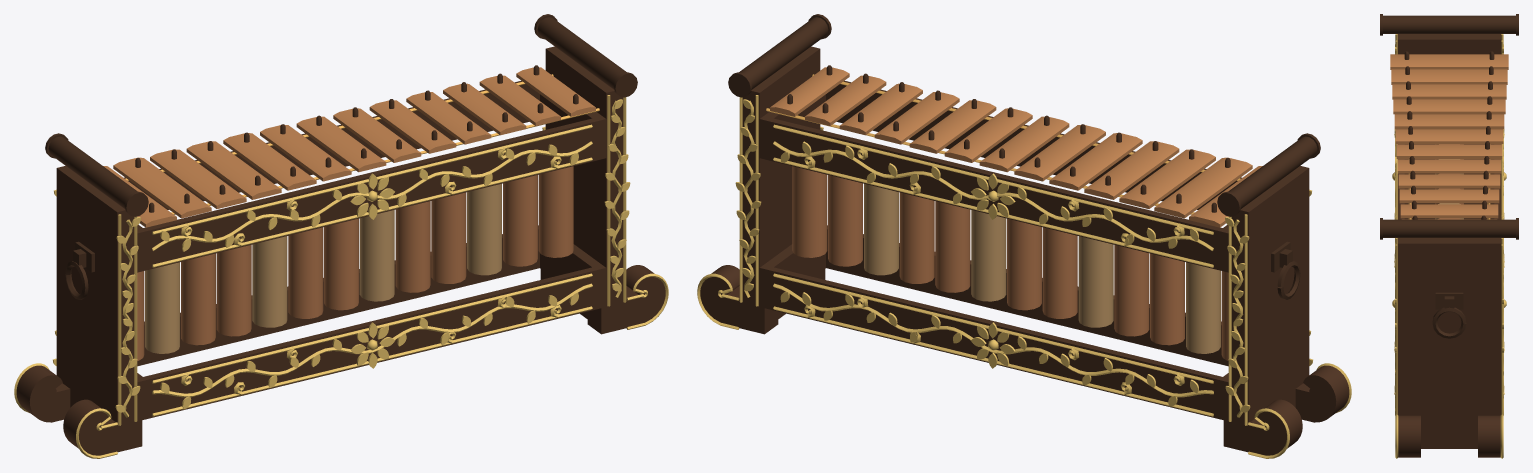
The model's file is gamelar_gender_barung_set.fbx.
3 views of the same model, side by side, from view 1: azimuth 30°, elevation 25°; view 2: azimuth 150°, elevation 25°; view 3: azimuth 270°, elevation 25° (orthographic). The views are drawn at different scales.
Parts seen in each view (by area): view 1: GenderBarungSet_Mesh; view 2: GenderBarungSet_Mesh; view 3: GenderBarungSet_Mesh.
Part boxes in pixels (x1=…): GenderBarungSet_Mesh: x1=14, y1=14, x2=668, y2=458; GenderBarungSet_Mesh: x1=697, y1=14, x2=1351, y2=458; GenderBarungSet_Mesh: x1=1380, y1=14, x2=1518, y2=458.
Size of the model in its own units: 1.19 by 0.5089 by 0.282.
